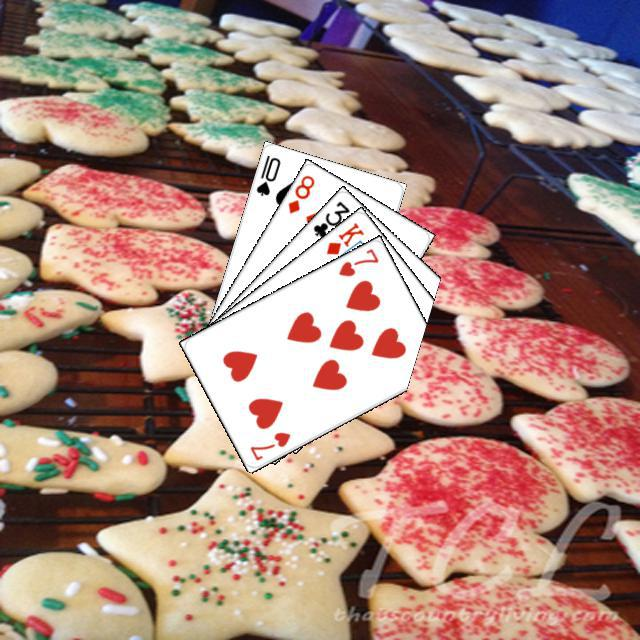10s: (251, 150, 282, 198)
3c: (308, 196, 351, 239)
7h: (333, 243, 380, 278), (245, 427, 292, 462)
8d: (283, 170, 316, 215)
Kd: (321, 217, 366, 257)
